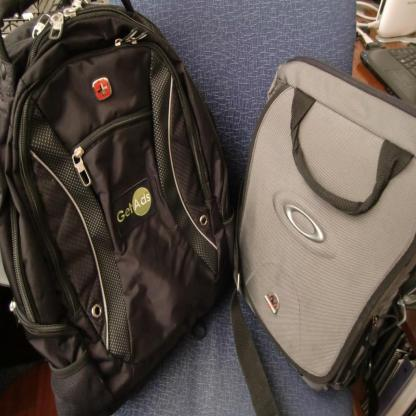board: (358, 45, 416, 106)
